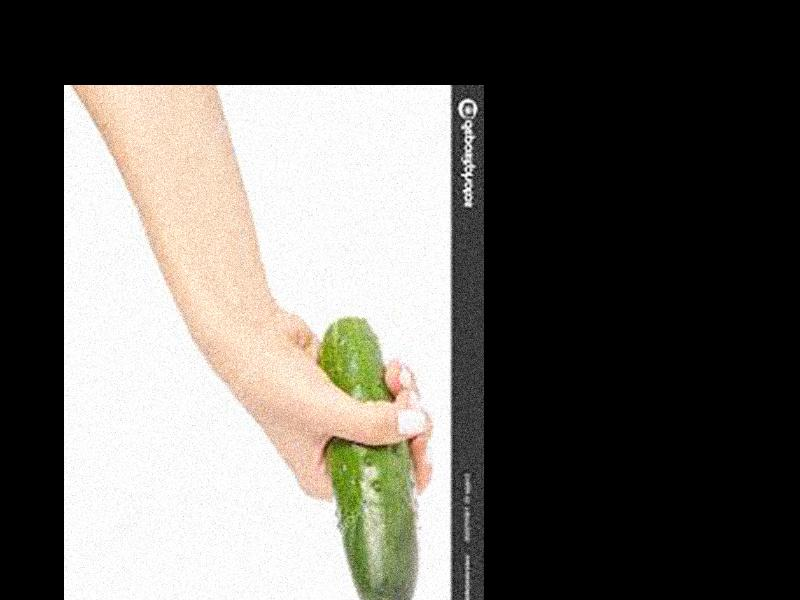Cucumber: (320, 318, 419, 600)
